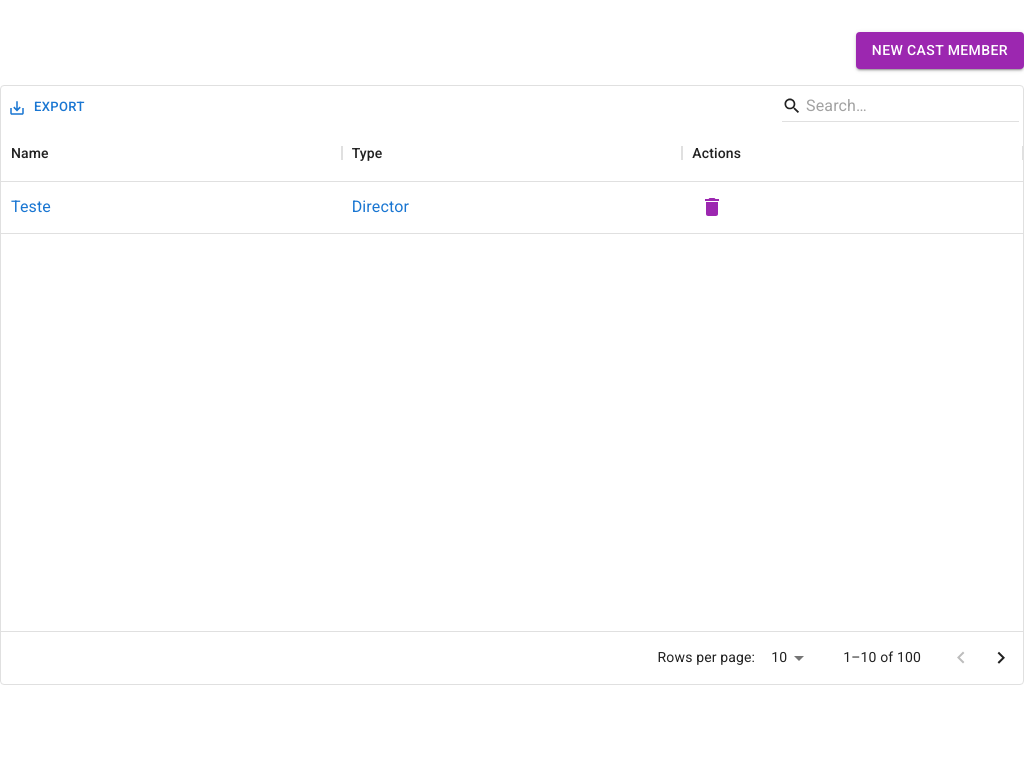
ListCastmembers › should handle filter change
Check: the text "Teste" is shown, box [11,195,51,219]
Step 1. Type "Teste" into the search field with placeholder "Search…" → (898, 106), box [806,90,989,122]
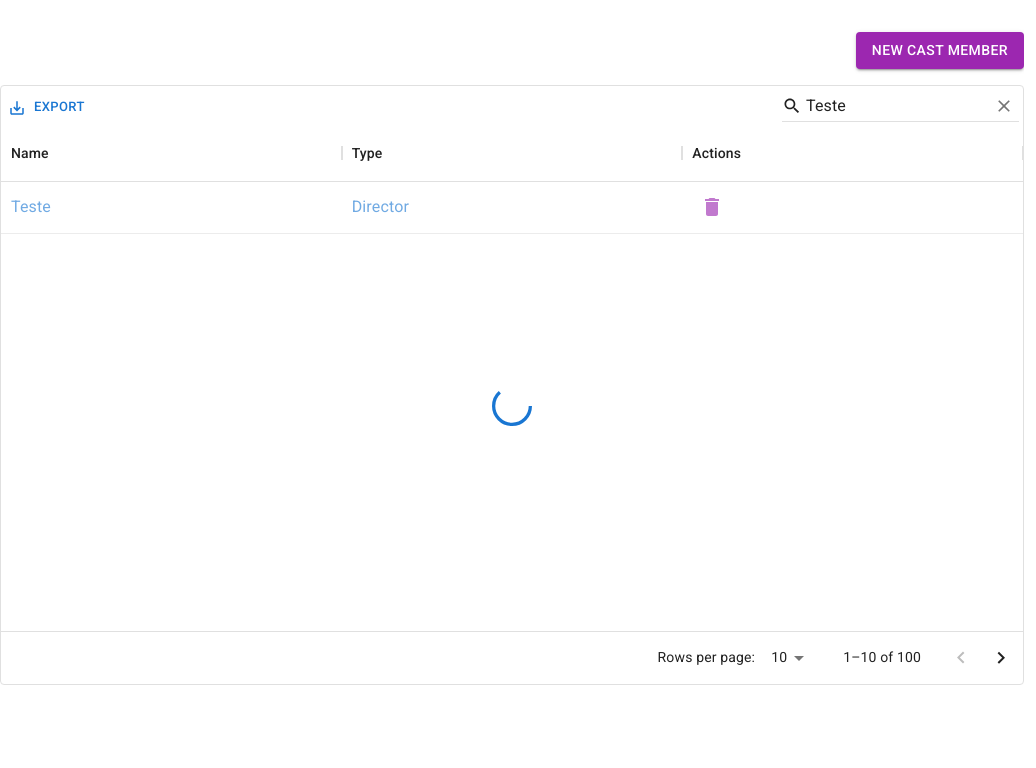
Check: the progress indicator is shown, box [492,386,532,426]
